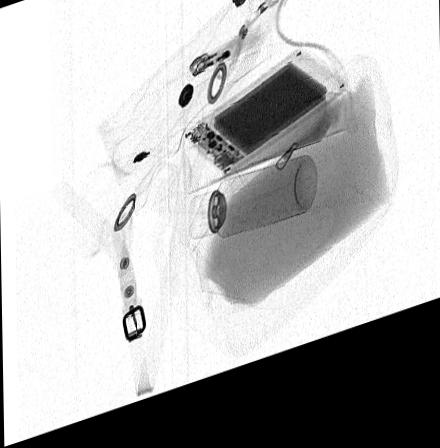Lighter: (187, 45, 267, 90)
Powerbank: (182, 68, 345, 194)
Sprayer: (188, 174, 316, 253)
